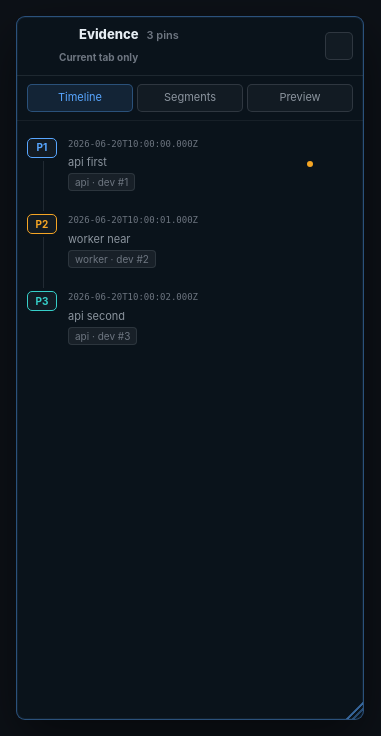
Test case: EvidenceDrawer › shows same-time candidates at the bottom only after selecting a pin
Click the button with test id "evidence-timeline-item" that starts with "2026-06-20T10:00:00.000Z".
click(133, 144)  # box [27,132,353,197]
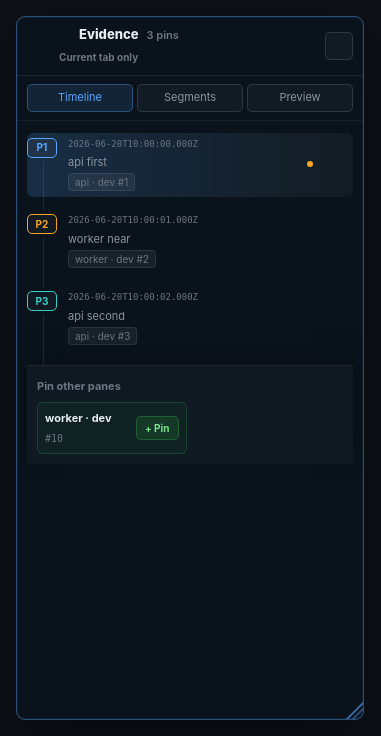
Result: the element with test id "same-time-candidate-panel" is shown at [27,365,353,464]
